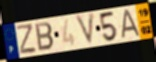4: (61, 17, 77, 48)
5: (98, 9, 119, 43)
A: (119, 9, 142, 41)
B: (34, 21, 55, 52)
V: (74, 11, 96, 47)
Z: (16, 23, 38, 55)
